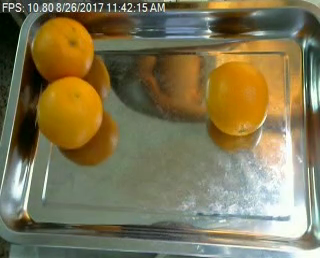Orange: (205, 60, 269, 137), (37, 76, 103, 148), (31, 16, 93, 80)
